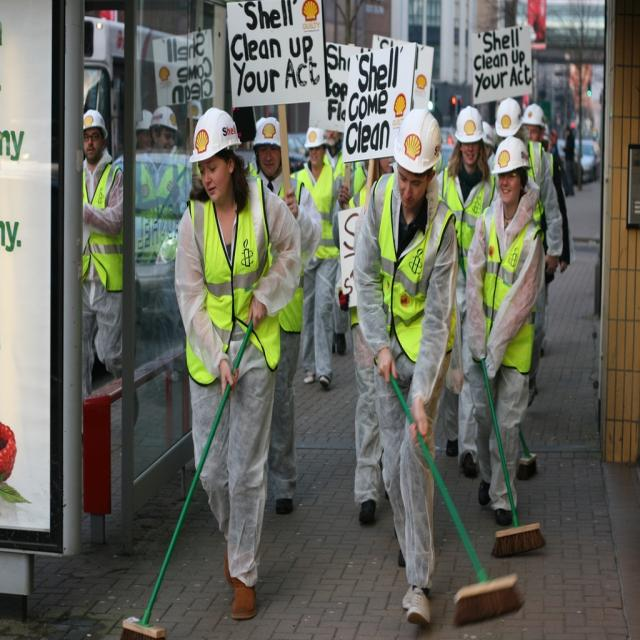shell: (405, 134, 423, 161), (303, 2, 320, 22), (195, 130, 209, 153), (394, 94, 407, 117), (264, 123, 276, 141), (464, 119, 476, 137), (499, 150, 511, 168), (417, 73, 429, 91), (160, 67, 171, 80), (502, 116, 512, 130), (308, 132, 318, 146), (86, 117, 96, 128)
